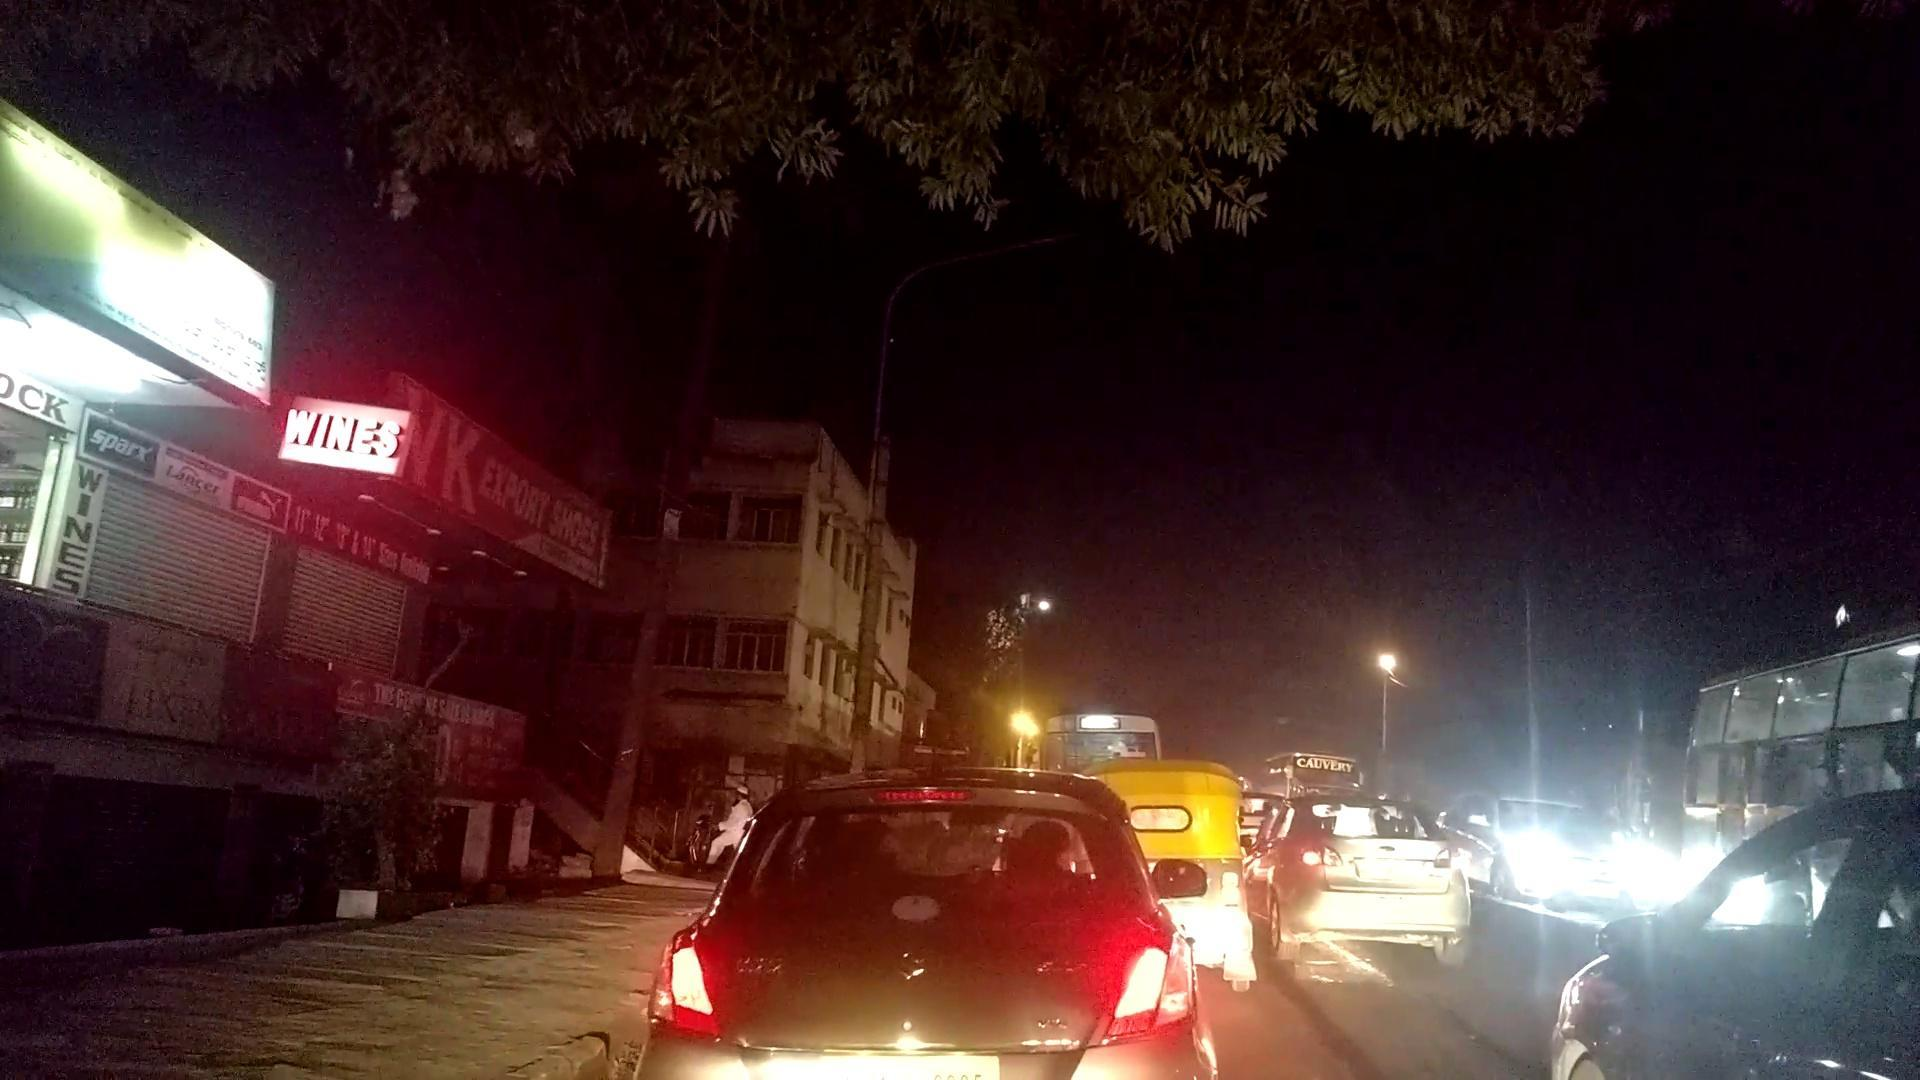on: (1379, 642, 1838, 1004)
